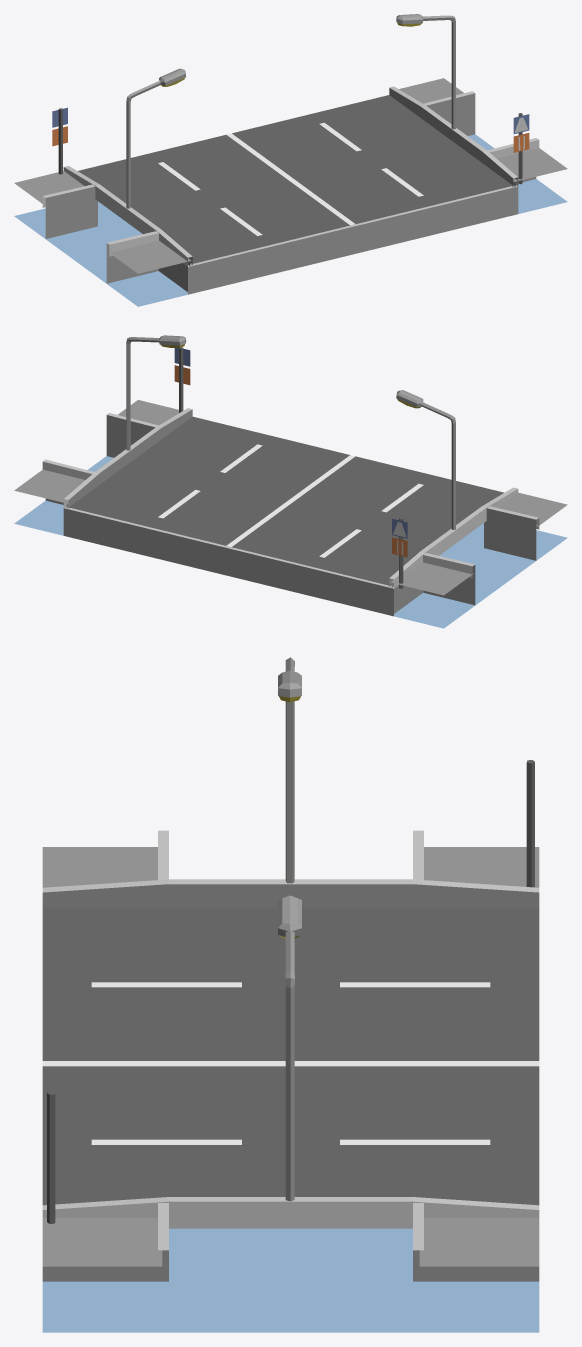
The model's file is road_tile_bridge_2x2_005.fbx.
3 renders of one model, top to bottom at view 1: azimuth 30°, elevation 25°; view 2: azimuth 150°, elevation 25°; view 3: azimuth 270°, elevation 25°, orthographic. The views are drawn at different scales.
Parts seen in each view (by area): view 1: road_tile_bridge_2x2_005; view 2: road_tile_bridge_2x2_005; view 3: road_tile_bridge_2x2_005.
Part boxes in pixels (x1,y1,x2,y2): road_tile_bridge_2x2_005: [14, 14, 567, 306]; road_tile_bridge_2x2_005: [14, 335, 567, 628]; road_tile_bridge_2x2_005: [42, 657, 539, 1332].
Size of the model in its own units: 1600 by 593 by 800.
